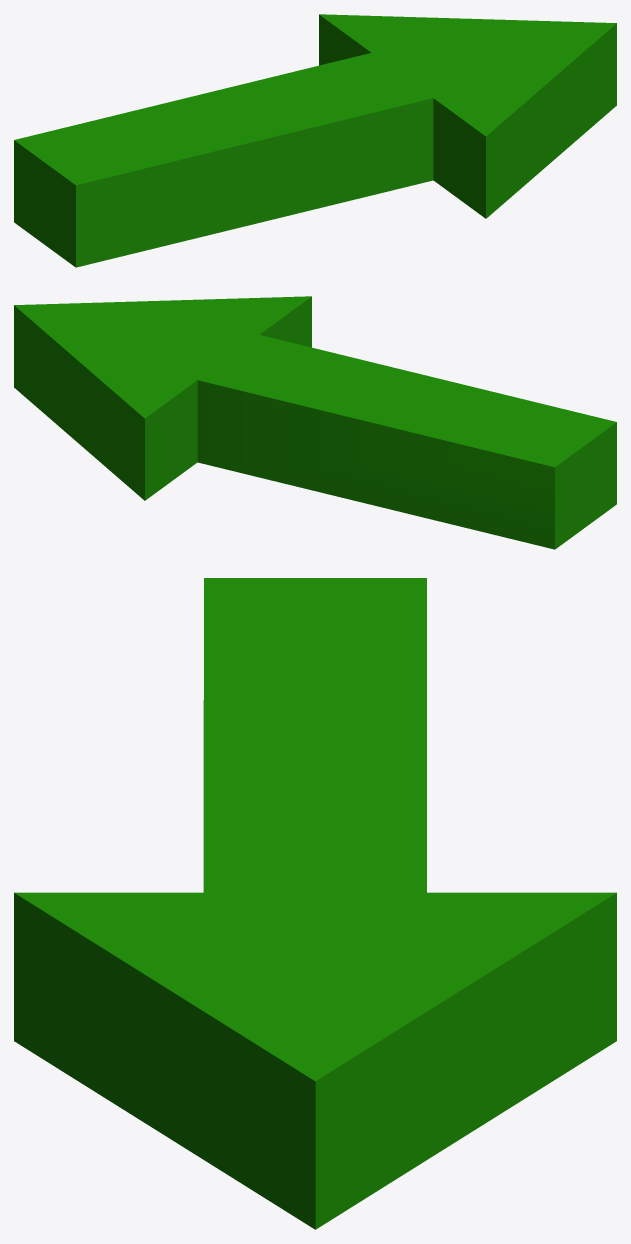
File: RouterArrow.fbx
The picture shows the model from 3 angles, top to bottom: view 1: azimuth 30°, elevation 25°; view 2: azimuth 150°, elevation 25°; view 3: azimuth 270°, elevation 25°; orthographic projection. The views are drawn at different scales.
Parts seen in each view (by area): view 1: Cube_001; view 2: Cube_001; view 3: Cube_001.
Part boxes in pixels (box(x1,y1,x2,y2)): Cube_001: box(14, 14, 616, 267); Cube_001: box(14, 296, 616, 549); Cube_001: box(14, 578, 616, 1229).
Bounding box in the file's own units: 200 × 27.5 × 101.
